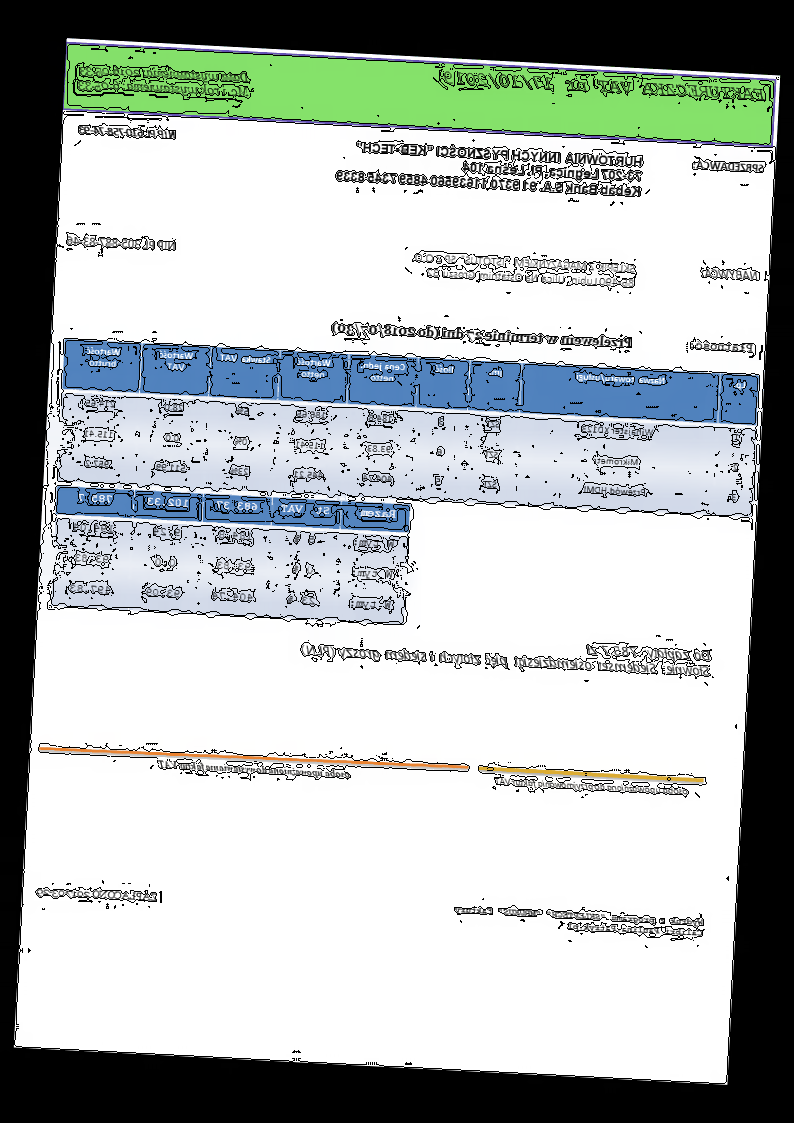Table: (56, 336, 761, 519), (49, 485, 413, 626)
TextBox: (299, 625, 714, 679), (333, 136, 646, 201), (442, 68, 768, 105), (331, 318, 635, 351), (409, 249, 638, 292), (451, 903, 706, 939), (75, 60, 253, 103), (491, 774, 690, 800), (156, 757, 353, 781), (36, 884, 161, 906), (65, 232, 180, 254), (76, 122, 178, 142), (691, 156, 767, 175), (688, 337, 756, 355), (700, 264, 760, 282)
